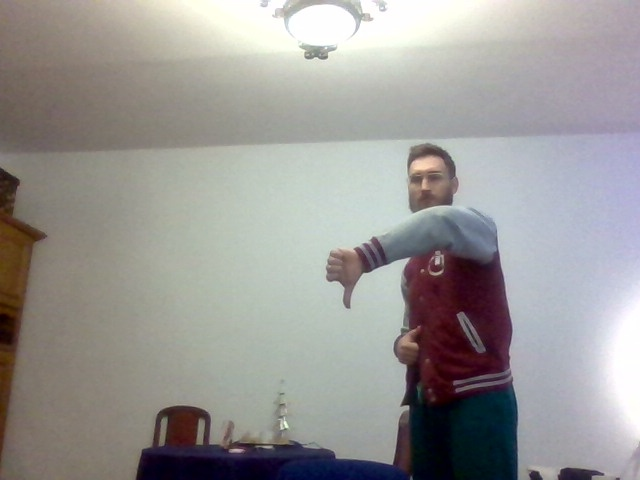ThumbsDown: (326, 250, 356, 309)
